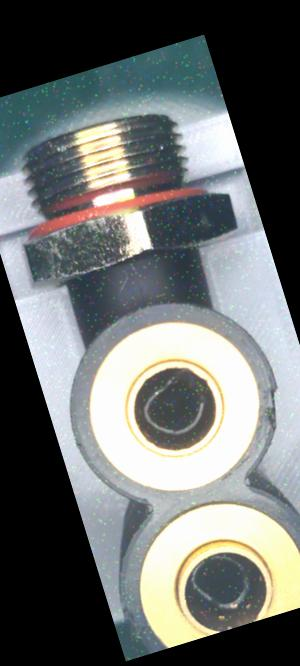bump: (253, 376, 293, 435)
joint line: (132, 275, 151, 305)
off-centered: (131, 363, 219, 451), (177, 541, 265, 623)
white mark: (111, 273, 134, 296)
